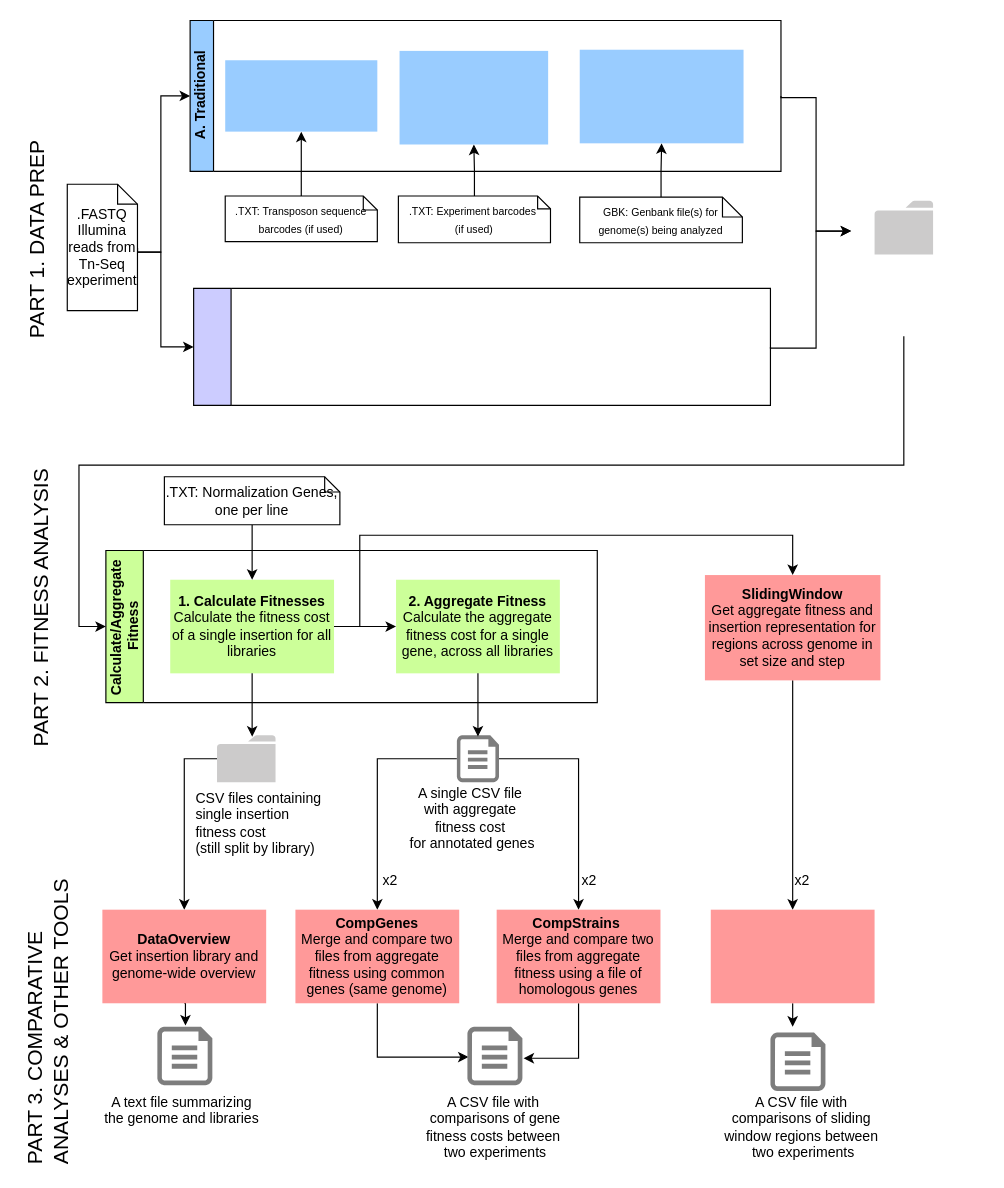
This 1004x1188 diagram has some shape labels left out. Each missing label, with the centre of its shape:
1 . Trim reads and split by trailing transposon sequence: point (301, 95)
2. Trim trailing transposon sequence, concatenate files, and spilt by barcode: point (473, 97)
3. Trim reads by barcode, filter reads by quality, collapse reads, and map them: point (661, 96)
B. Randomly Sheared: point (481, 346)
CompWindows Merge and compare two files from slidingWindow (must be same genome): point (792, 956)
OUTPUT map files for each library (can represent conditions or replicates): point (903, 227)
